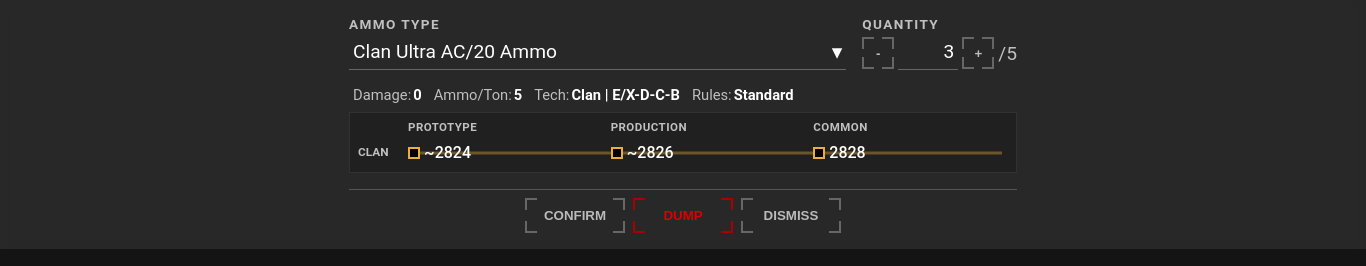
it: SetAmmoDialogComponent › renders ammo options in rows that can wrap long names
The width and height of the screenshot is (1366, 266).
Click the button with id "inputName": click(455, 52) [349,36,846,70]
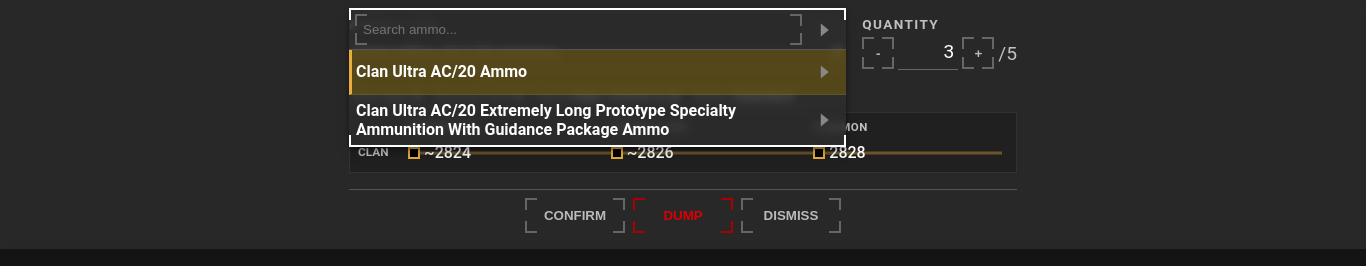
Result: the 2nd text with class "ammo-dropdown-option-name" is shown at [356,101,798,139]
